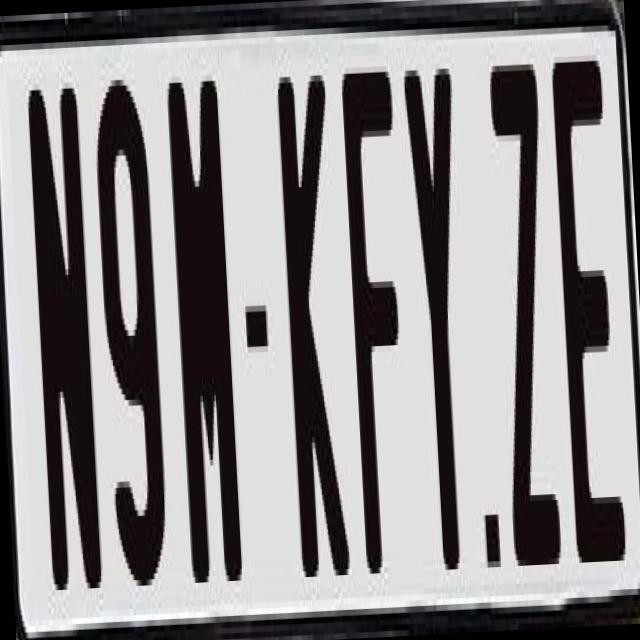9: (88, 73, 176, 616)
E: (548, 55, 628, 558)
F: (338, 60, 416, 591)
K: (272, 58, 348, 595)
M: (166, 63, 247, 589)
N: (22, 71, 105, 574)
Y: (402, 51, 486, 570)
Z: (484, 52, 563, 555)
